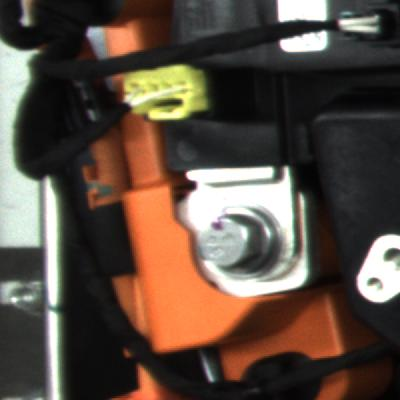nut_b: (183, 189, 292, 281)
